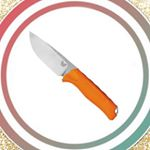knife: (29, 32, 119, 120)
